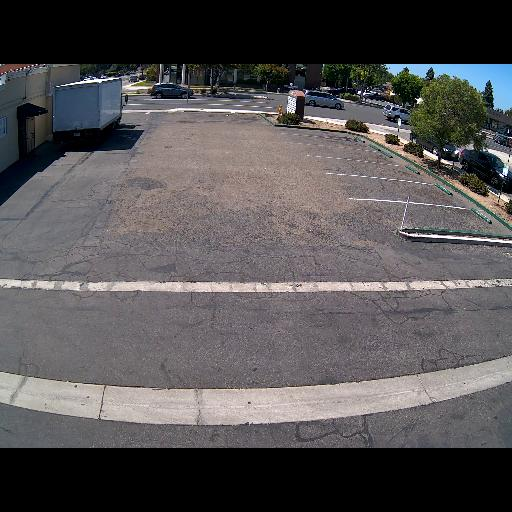car: (50, 77, 129, 145), (455, 146, 511, 194), (407, 128, 460, 162), (303, 89, 345, 109), (148, 82, 196, 98), (381, 102, 415, 124), (491, 129, 511, 147), (325, 85, 355, 96), (363, 90, 385, 103), (126, 75, 138, 82)
